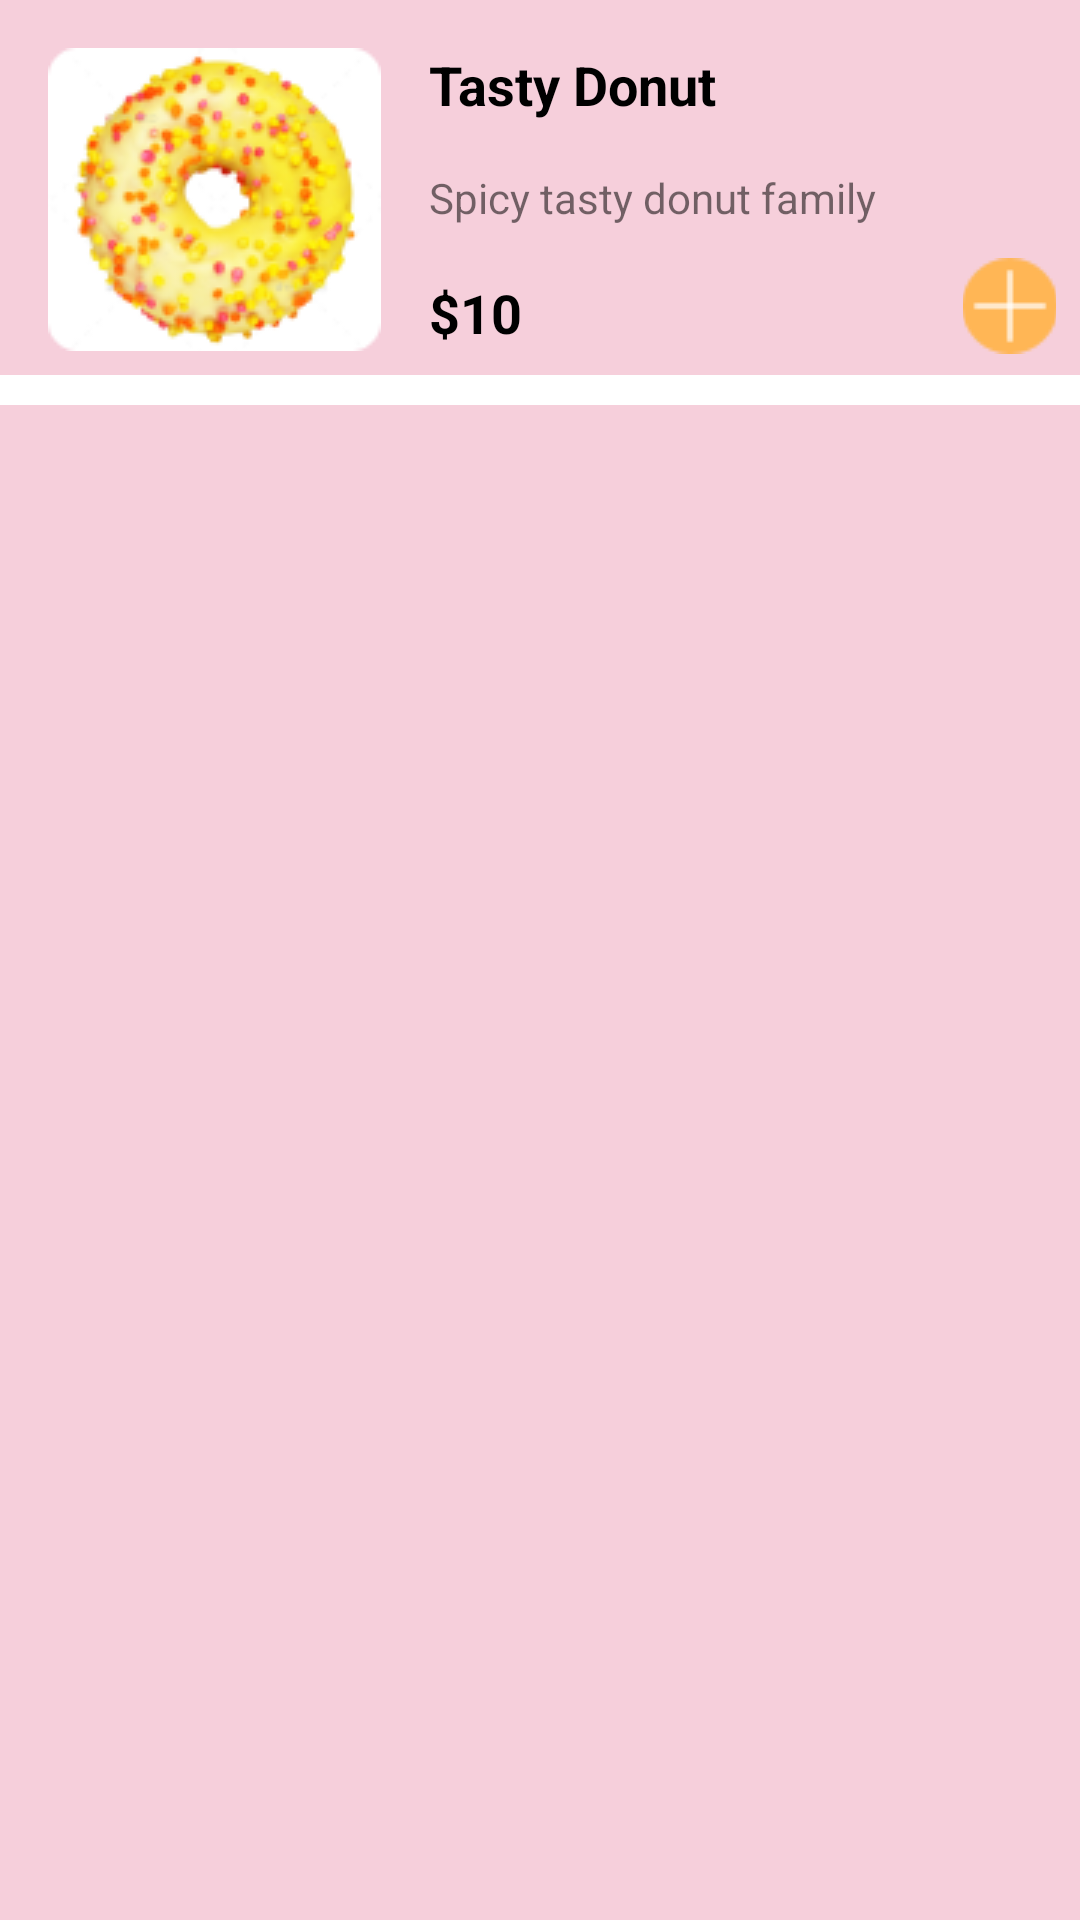

Icons on this 1080 × 1920 Android screen, each with the point to tap as point (x, y):
addnew: point (1009, 306)
